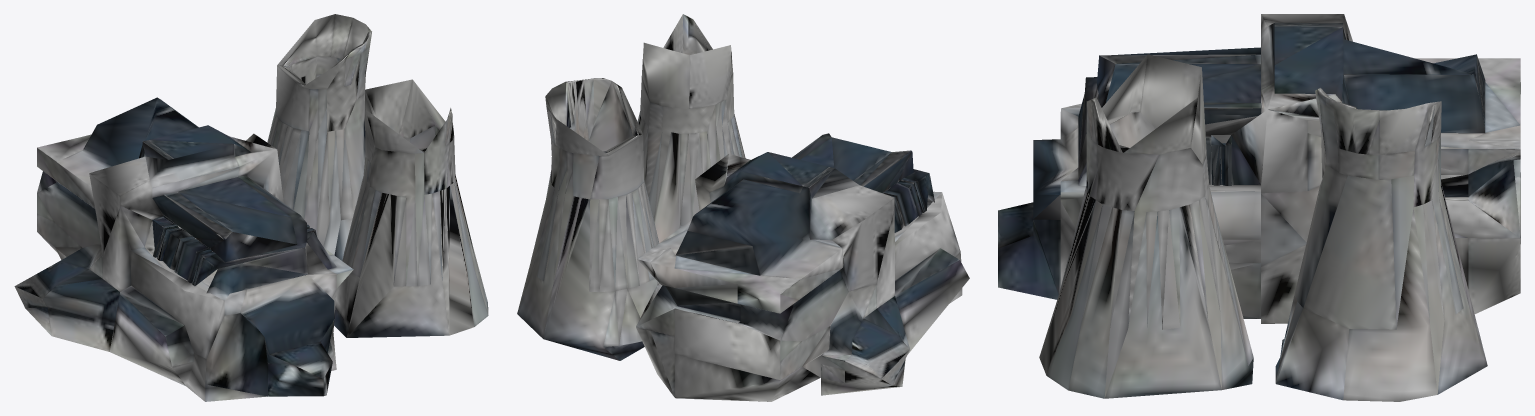
The model's file is 22-power-plant.glb.
3 renders of one model, left to right at view 1: azimuth 30°, elevation 25°; view 2: azimuth 150°, elevation 25°; view 3: azimuth 270°, elevation 25°, orthographic. The views are drawn at different scales.
Parts seen in each view (by area): view 1: geometry_0; view 2: geometry_0; view 3: geometry_0.
Part boxes in pixels (x1=…): geometry_0: x1=14, y1=14, x2=488, y2=401; geometry_0: x1=517, y1=14, x2=969, y2=401; geometry_0: x1=998, y1=14, x2=1520, y2=401.
Bounding box in the file's own units: 0.937 × 0.5523 × 0.8867.
Materials: 1 (1 with a texture image).
